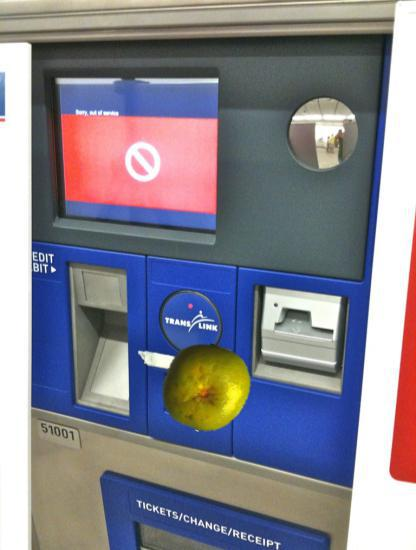Pomelo: (162, 344, 250, 432)
